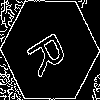R: (25, 25, 76, 79)
